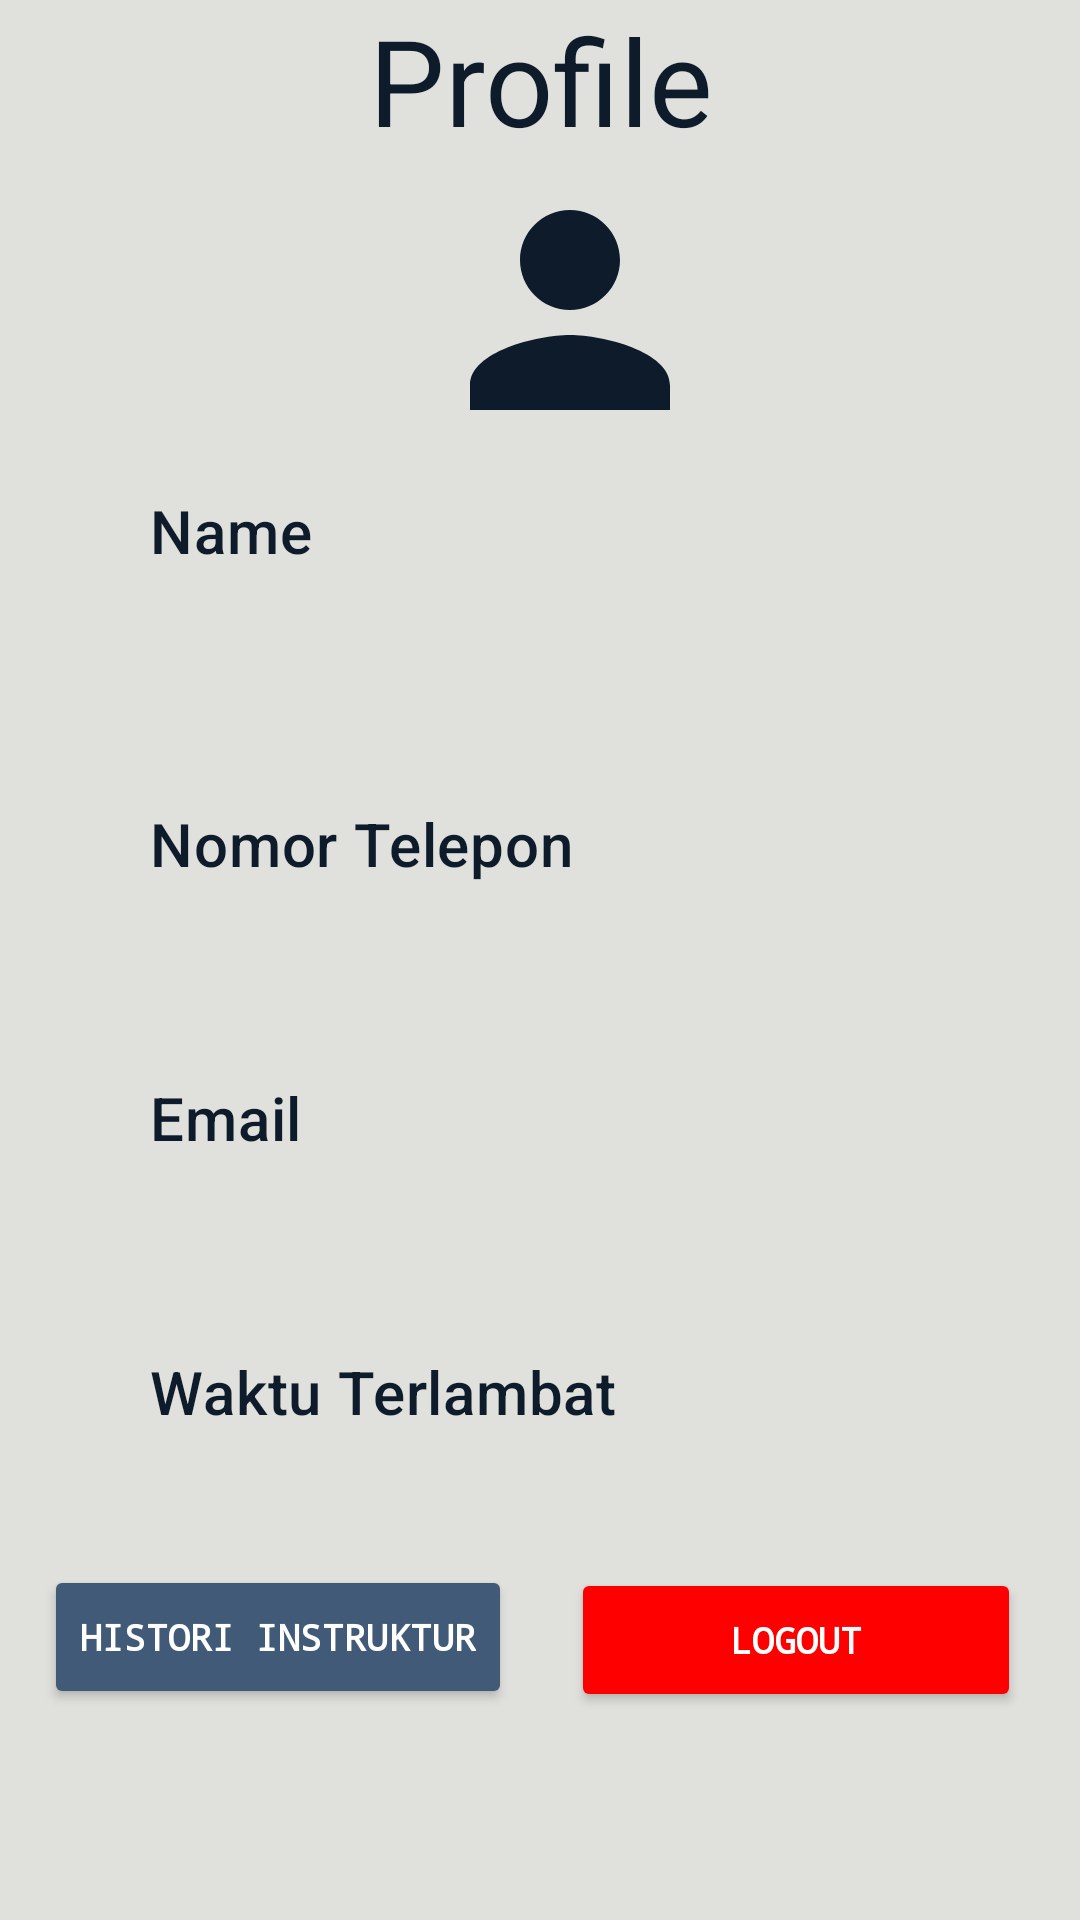

Locate icon controls on the screen. Image size 1080 x 1920, boxes as (x1, y1, x2, y2).
person: (470, 210, 670, 410)
